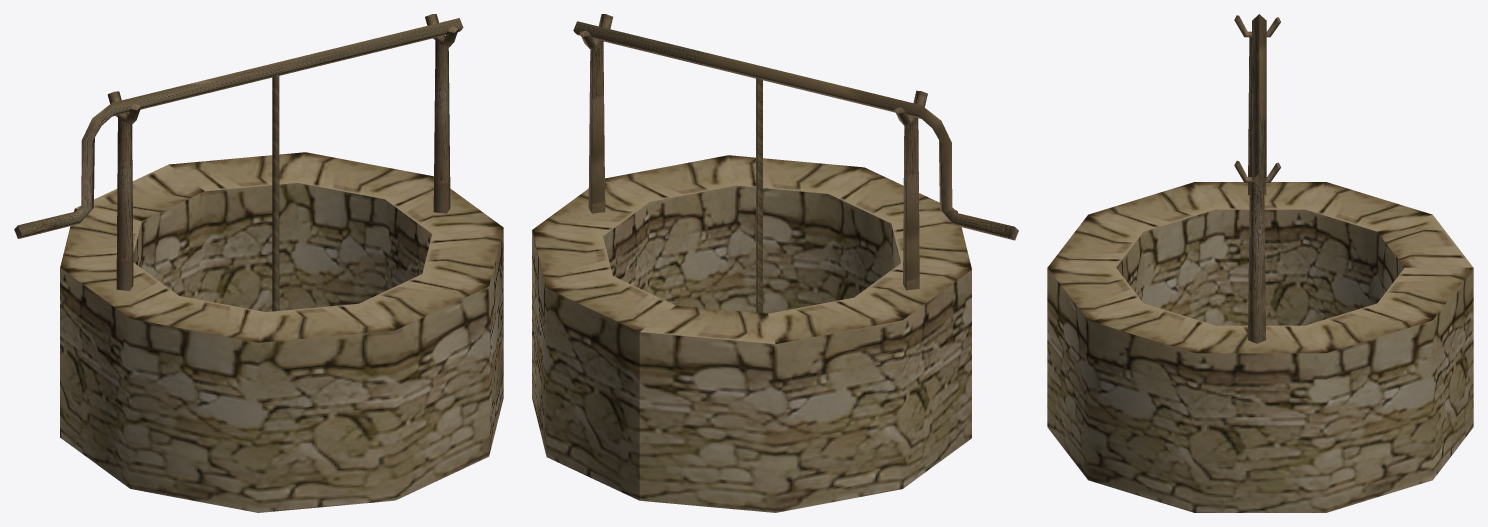
The model's file is africanwell.gltf.
The picture shows the model from 3 angles, left to right: view 1: azimuth 30°, elevation 25°; view 2: azimuth 150°, elevation 25°; view 3: azimuth 270°, elevation 25°; orthographic projection. The views are drawn at different scales.
Visible parts, largest first — view 1: africanwell_atomic0; view 2: africanwell_atomic0; view 3: africanwell_atomic0.
Part boxes in pixels (x1=…): africanwell_atomic0: x1=14, y1=14, x2=503, y2=512; africanwell_atomic0: x1=532, y1=14, x2=1018, y2=512; africanwell_atomic0: x1=1047, y1=14, x2=1473, y2=512.
Size of the model in its own units: 15.79 by 12.7 by 13.74.
4 materials, 4 textured.
